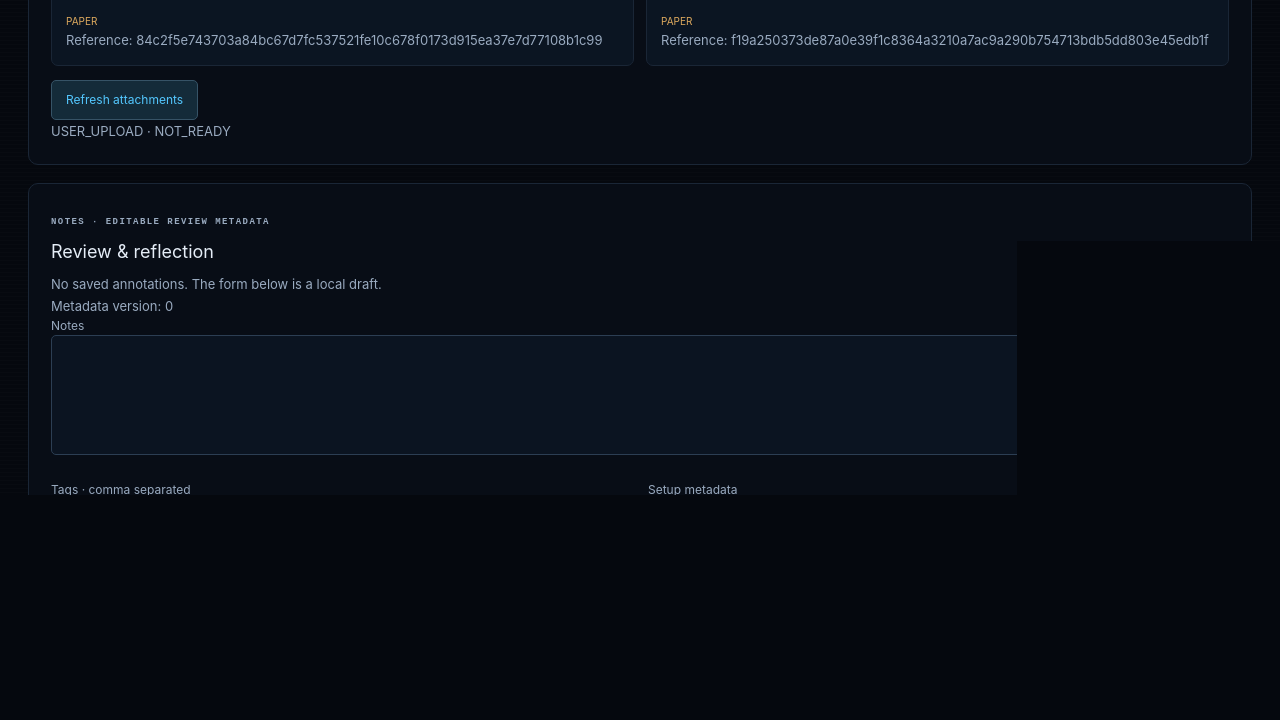
Scenario: authenticated HTTP product transport without fixture financial state › metadata conflict fetches latest while preserving draft; explicit reload permits a reviewed retry
(page scrolled)
Type "my unsaved draft" into the text box labelled "Notes" at (640, 395), box x1=51 y1=335 x2=1229 y2=454
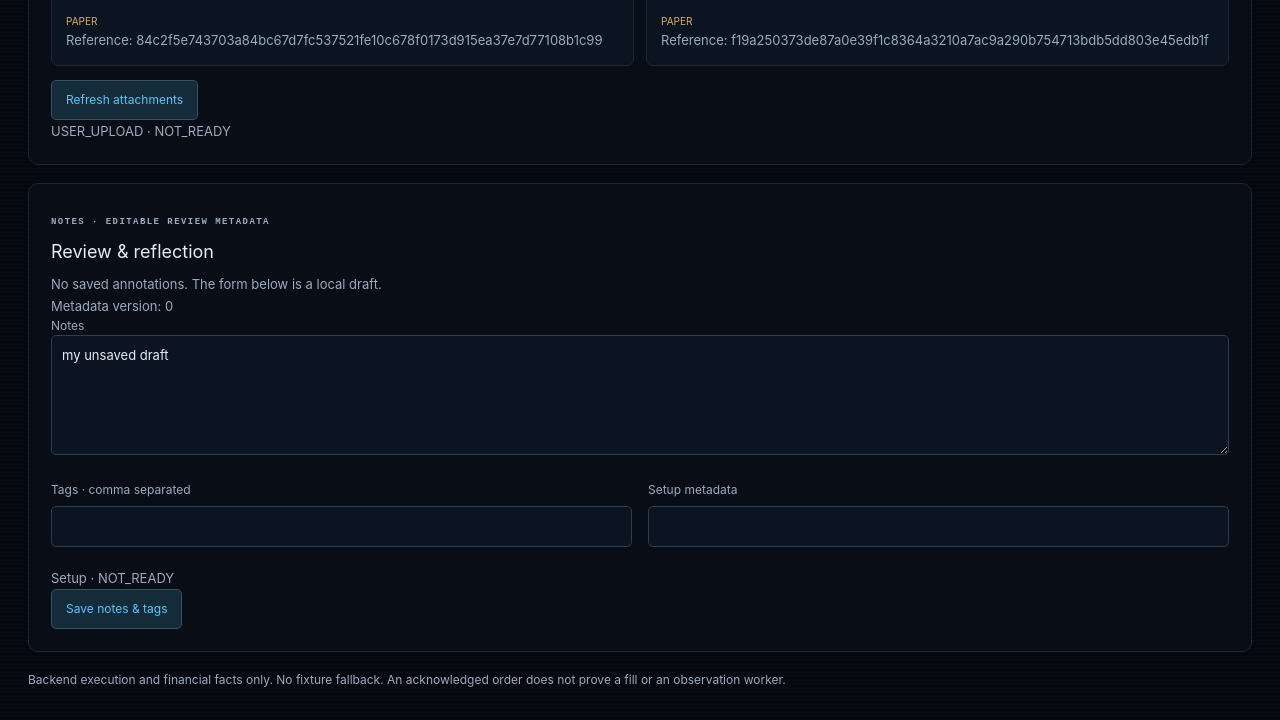
Click the button "Save notes & tags" at (117, 609), box x1=51 y1=589 x2=182 y2=629
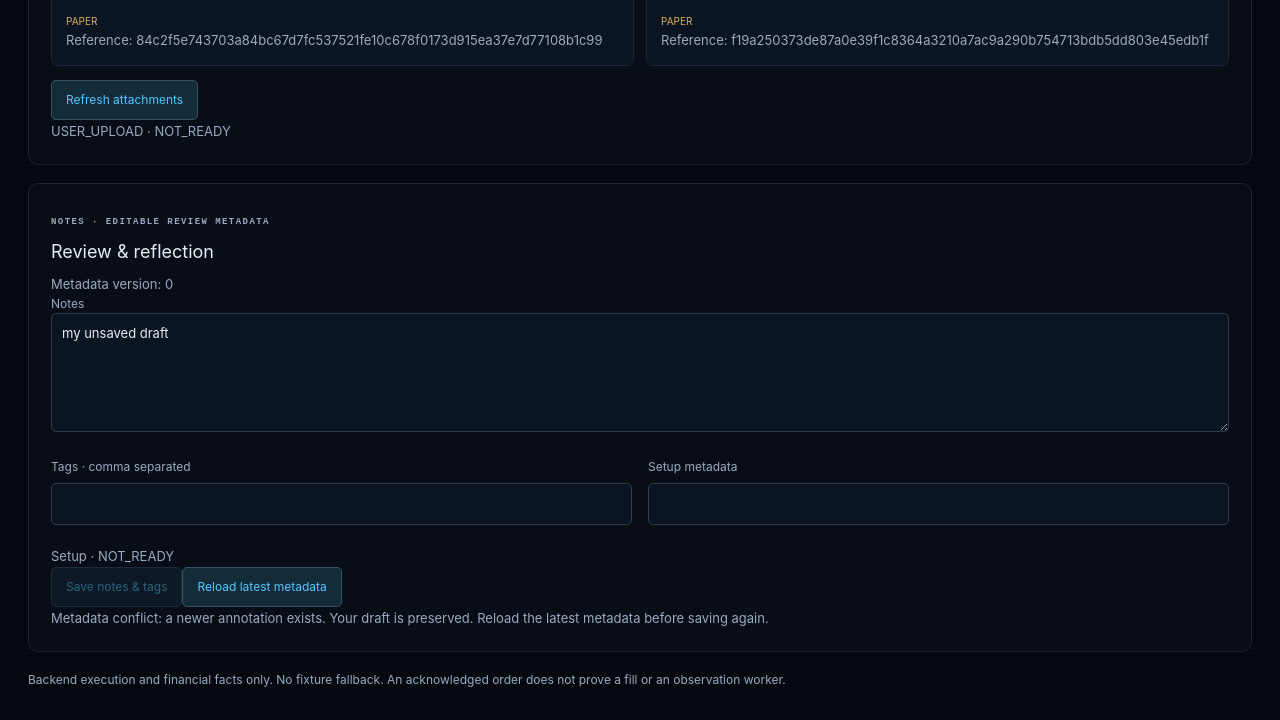
Check: the button "Reload latest metadata" is shown
Check: the button "Save notes & tags" is disabled, box x1=51 y1=567 x2=182 y2=607
Click the button "Reload latest metadata" at (262, 587), box x1=182 y1=567 x2=342 y2=607
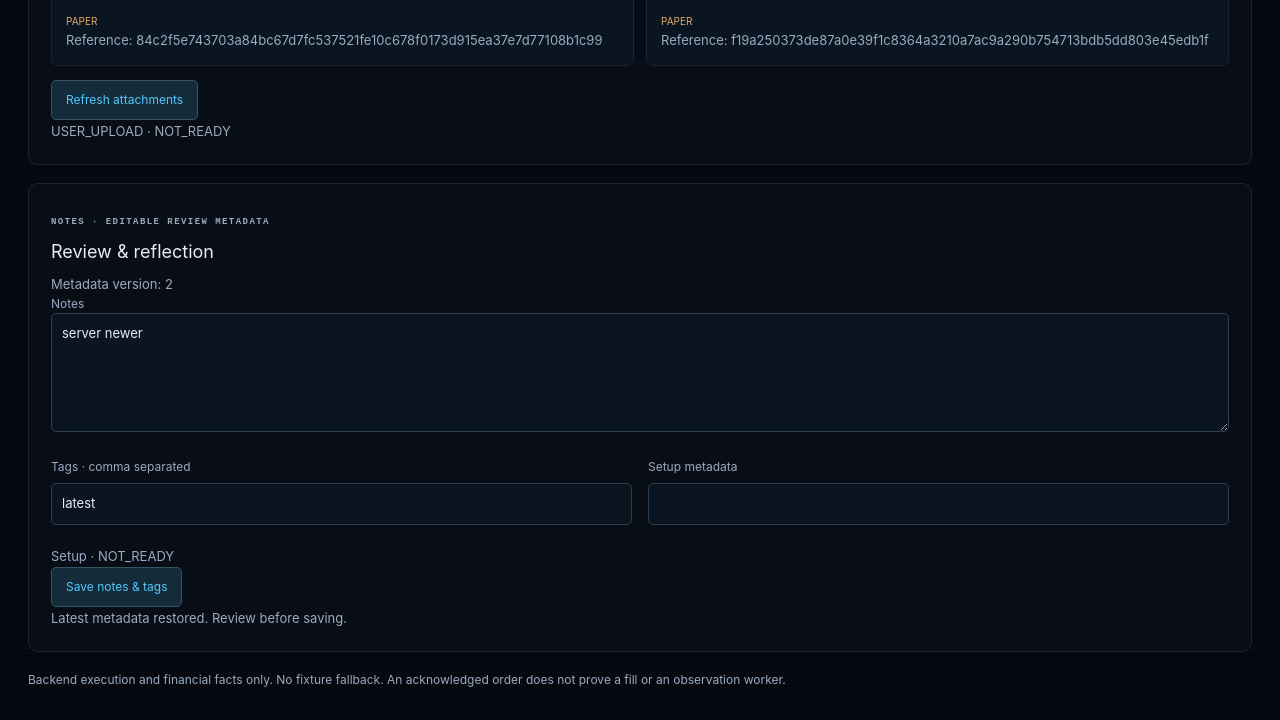
Check: the text box labelled "Notes" holds "server newer", box x1=51 y1=313 x2=1229 y2=432
Check: the button "Save notes & tags" is enabled, box x1=51 y1=567 x2=182 y2=607
